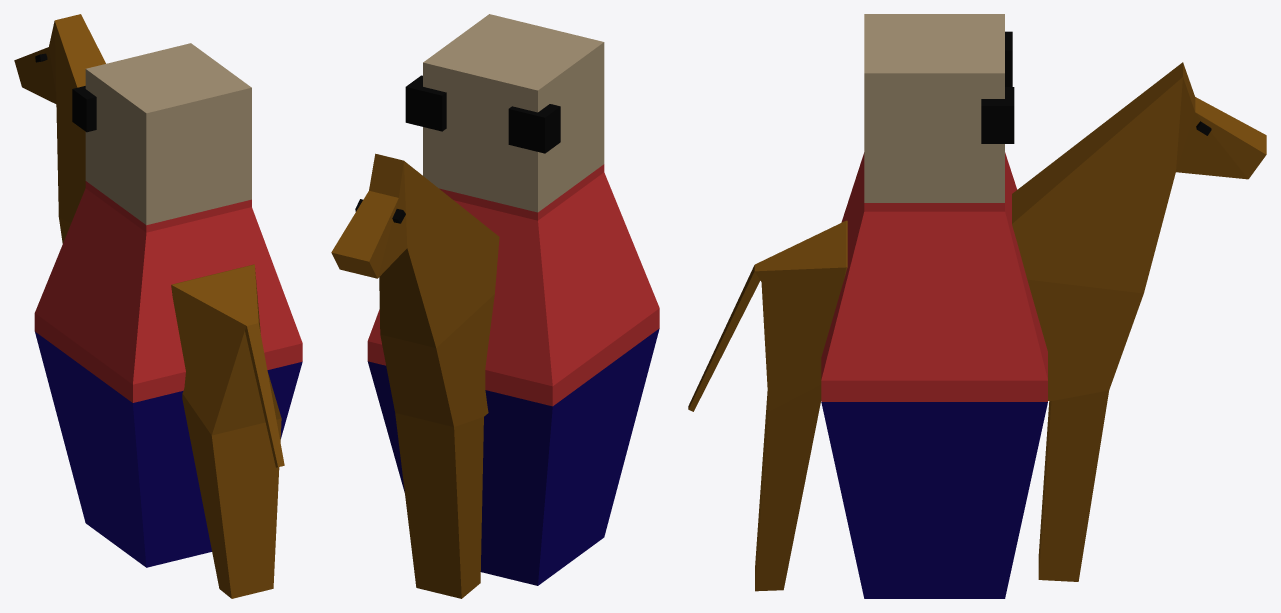
The model's file is Medieval.fbx_Characters.fbx.
3 renders of one model, left to right at view 1: azimuth 30°, elevation 25°; view 2: azimuth 150°, elevation 25°; view 3: azimuth 270°, elevation 25°, orthographic. The views are drawn at different scales.
Visible parts, largest first — view 1: LargeMan, Horse; view 2: LargeMan, Horse; view 3: LargeMan, Horse.
Part boxes in pixels (x1=…): LargeMan: x1=34, y1=43, x2=302, y2=567; Horse: x1=14, y1=14, x2=284, y2=598; LargeMan: x1=367, y1=14, x2=659, y2=585; Horse: x1=331, y1=153, x2=499, y2=598; LargeMan: x1=821, y1=14, x2=1047, y2=598; Horse: x1=688, y1=62, x2=1266, y2=591.
Bounding box in the file's own units: 114 × 290 × 295.
